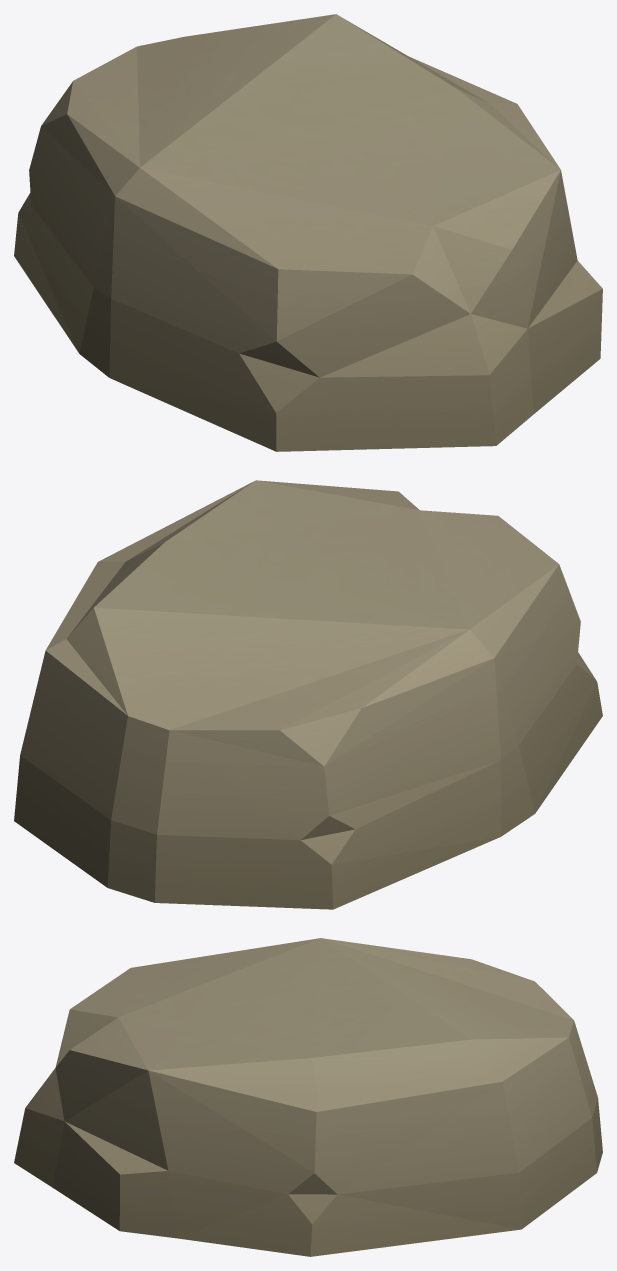
File: Rock_01.fbx
3 views of the same model, one above another, from view 1: azimuth 30°, elevation 25°; view 2: azimuth 150°, elevation 25°; view 3: azimuth 270°, elevation 25° (orthographic). The views are drawn at different scales.
Parts seen in each view (by area): view 1: Rock_01; view 2: Rock_01; view 3: Rock_01.
Part boxes in pixels (x1,y1,x2,y2): Rock_01: (14, 14, 602, 451); Rock_01: (14, 480, 602, 909); Rock_01: (14, 938, 602, 1256).
Bounding box in the file's own units: 280 × 121 × 380.
